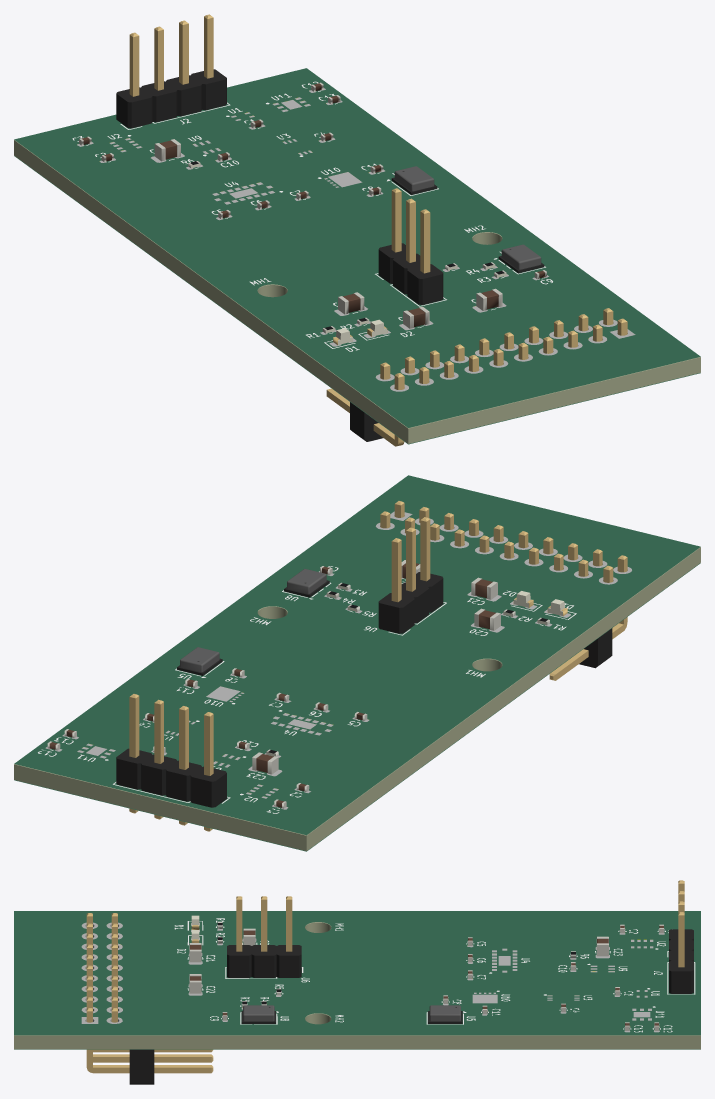
3 views of the same model, one above another, from view 1: azimuth 30°, elevation 25°; view 2: azimuth 150°, elevation 25°; view 3: azimuth 270°, elevation 25° (orthographic). The views are drawn at different scales.
Visible parts, largest first — view 1: =>[0:1:1:23], =>[0:1:1:25], =>[0:1:1:7], =>[0:1:1:9], =>[0:1:1:19], =>[0:1:1:3], =>[0:1:1:21], =>[0:1:1:15]; view 2: =>[0:1:1:23], =>[0:1:1:25], =>[0:1:1:7], =>[0:1:1:9], =>[0:1:1:19], =>[0:1:1:3], =>[0:1:1:21], =>[0:1:1:15]; view 3: =>[0:1:1:23], =>[0:1:1:25], =>[0:1:1:7], =>[0:1:1:9], =>[0:1:1:19], =>[0:1:1:21], =>[0:1:1:3], =>[0:1:1:15].
Boxes of the visible parts, box(x1,y1,x2,y2) form: =>[0:1:1:23]: box(14, 68, 700, 444); =>[0:1:1:25]: box(14, 103, 700, 443); =>[0:1:1:7]: box(129, 14, 627, 446); =>[0:1:1:9]: box(116, 69, 510, 441); =>[0:1:1:19]: box(77, 88, 635, 391); =>[0:1:1:3]: box(79, 82, 546, 333); =>[0:1:1:21]: box(72, 81, 552, 351); =>[0:1:1:15]: box(391, 166, 544, 273); =>[0:1:1:23]: box(14, 475, 700, 851); =>[0:1:1:25]: box(14, 520, 700, 850); =>[0:1:1:7]: box(129, 501, 627, 831); =>[0:1:1:9]: box(116, 572, 612, 807); =>[0:1:1:19]: box(45, 511, 631, 809); =>[0:1:1:3]: box(47, 560, 549, 808); =>[0:1:1:21]: box(38, 566, 576, 813); =>[0:1:1:15]: box(177, 569, 329, 675); =>[0:1:1:23]: box(14, 911, 700, 1049); =>[0:1:1:25]: box(14, 922, 700, 1049); =>[0:1:1:7]: box(86, 880, 684, 1073); =>[0:1:1:9]: box(129, 929, 693, 1084); =>[0:1:1:19]: box(81, 922, 664, 1032); =>[0:1:1:21]: box(174, 918, 695, 1032); =>[0:1:1:3]: box(189, 922, 664, 1030); =>[0:1:1:15]: box(241, 1005, 462, 1023).
Bounding box in the file's own units: 0.03 × 0.0153 × 0.07.
